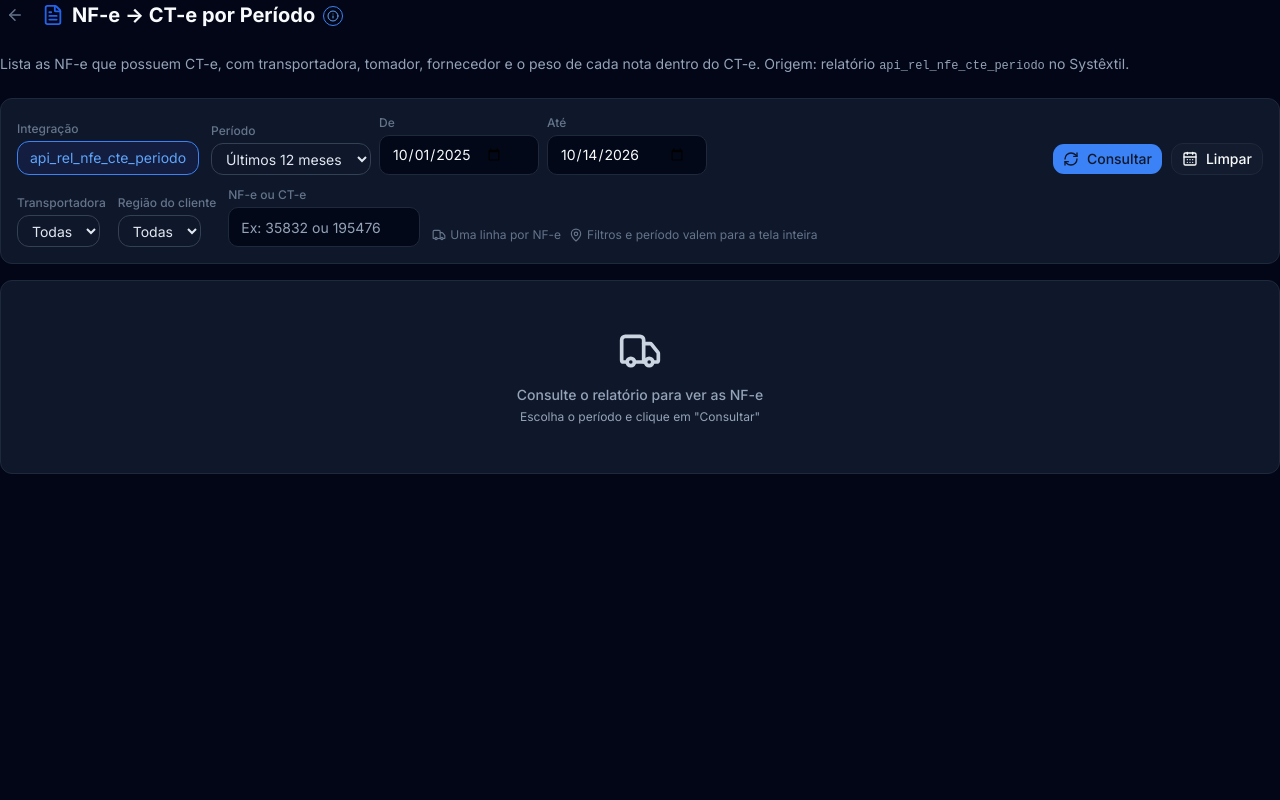
Scenario: NfeCtePage › mantém o foco dentro do modal de CT-es e devolve ao botão que abriu
Expected: the button "api_rel_nfe_cte_periodo" is shown, [17, 141, 199, 175]
Click the button "Consultar" at (1107,159), box [1052, 143, 1163, 175]
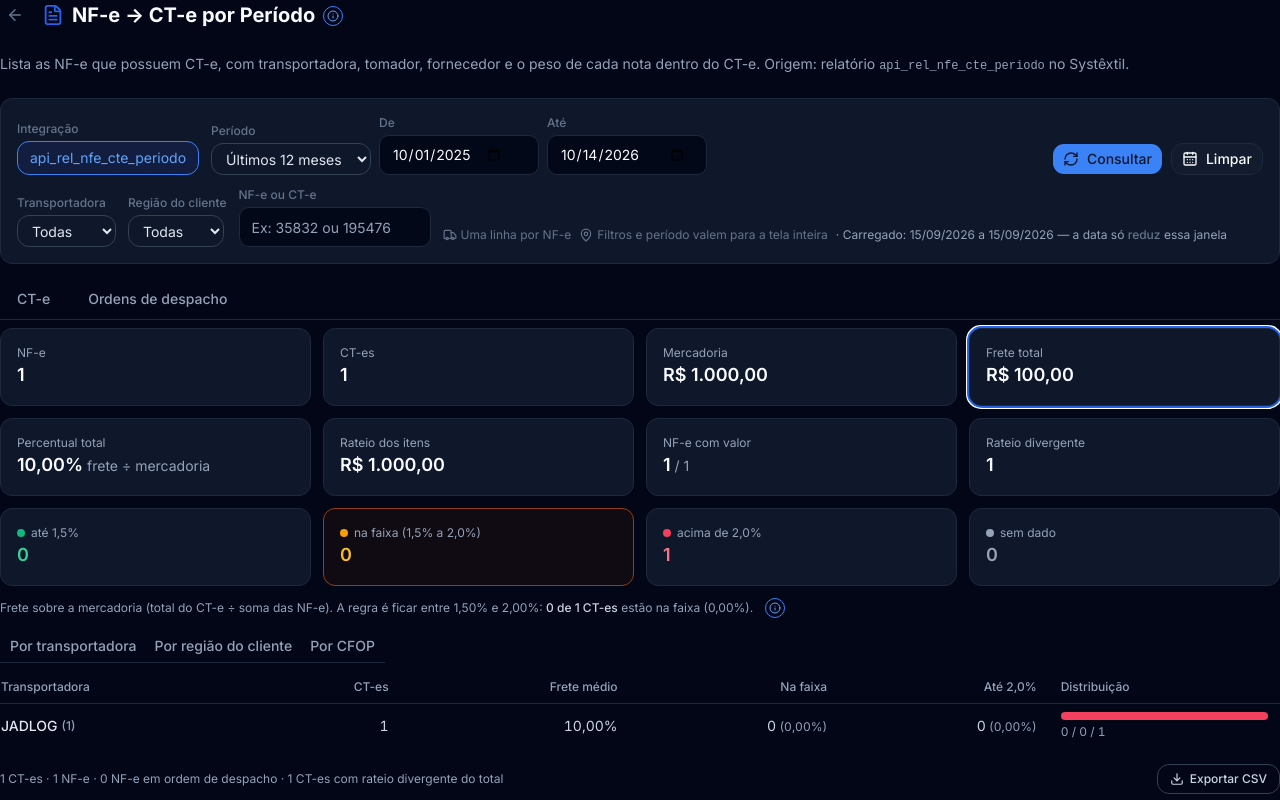
Click the button with aria-label "Ver os CT-es de Frete total" at (1014,352), box [969, 328, 1279, 406]
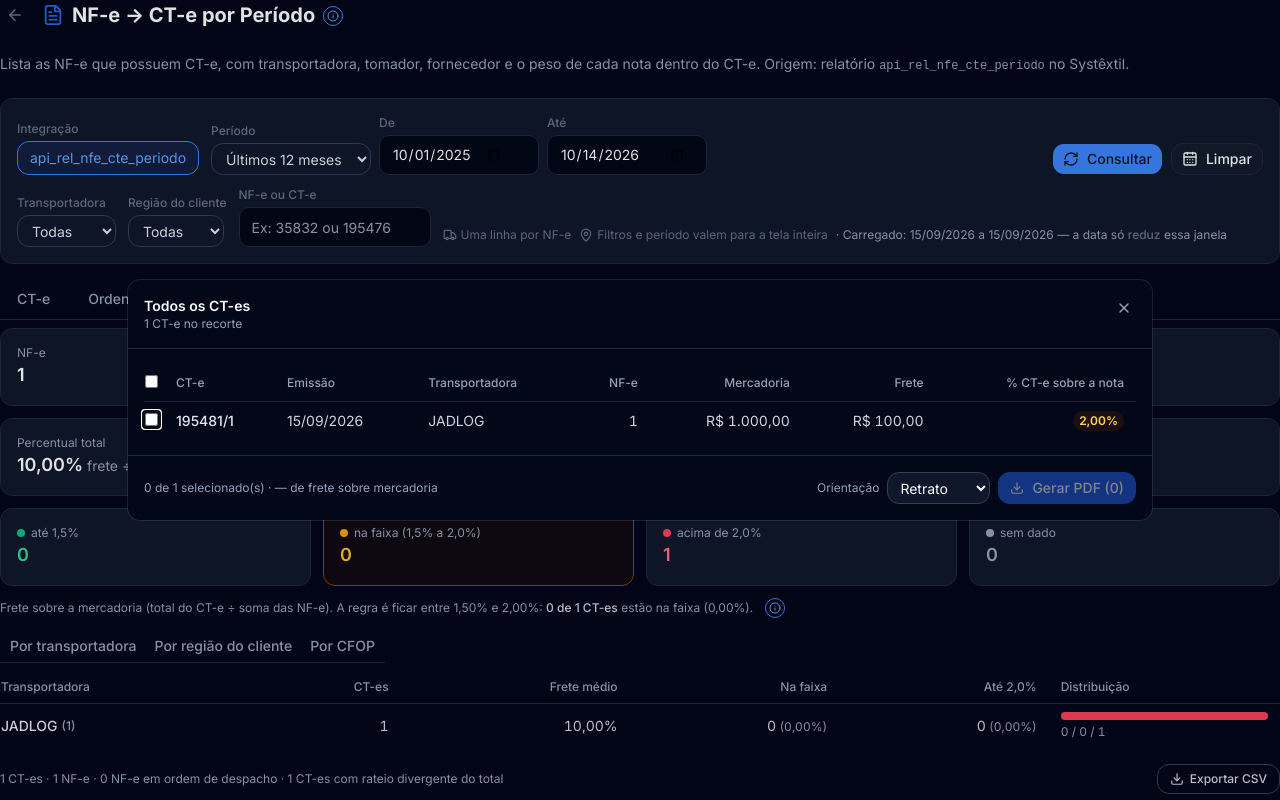
Press Tab in the checkbox named "Selecionar CT-e 195481", box [145, 412, 158, 426]
Click the button named "Fechar lista de CT-es" at (1124,308), box [1112, 296, 1136, 320]
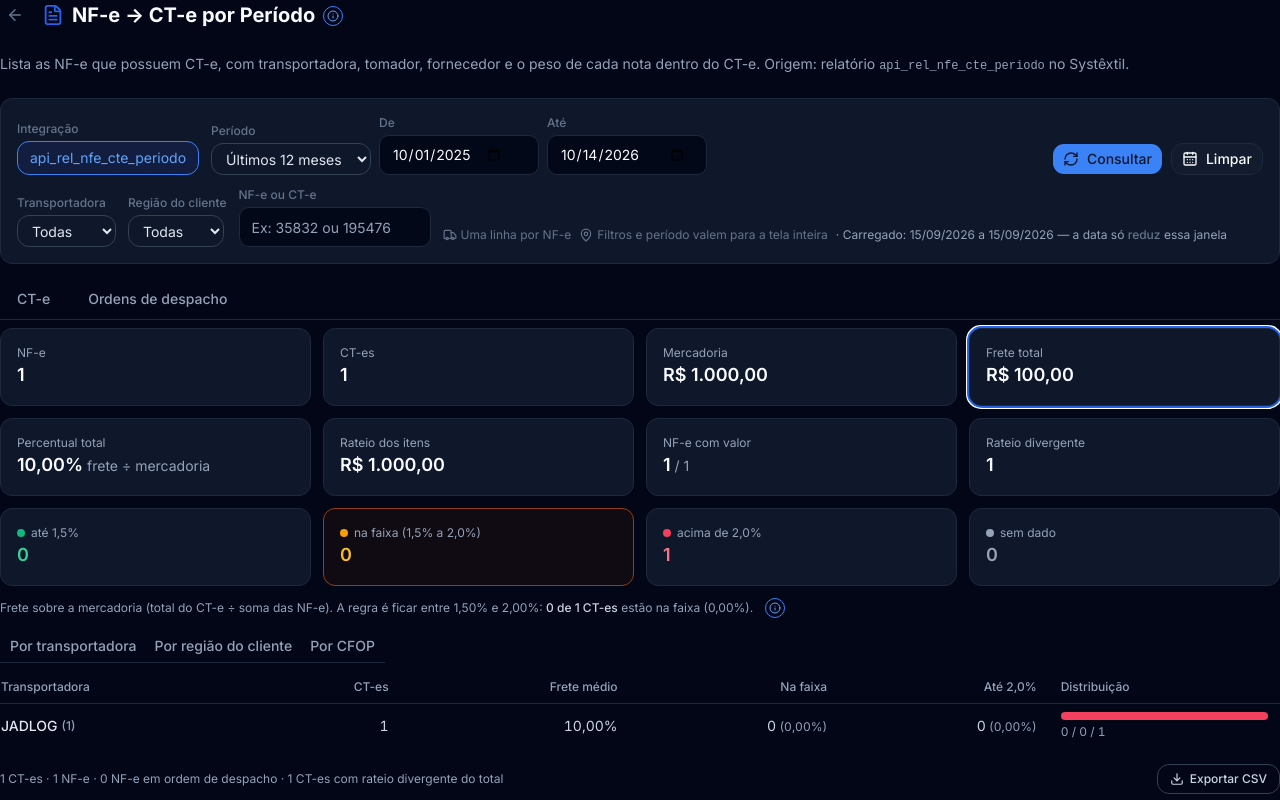
Result: the dialog is gone
